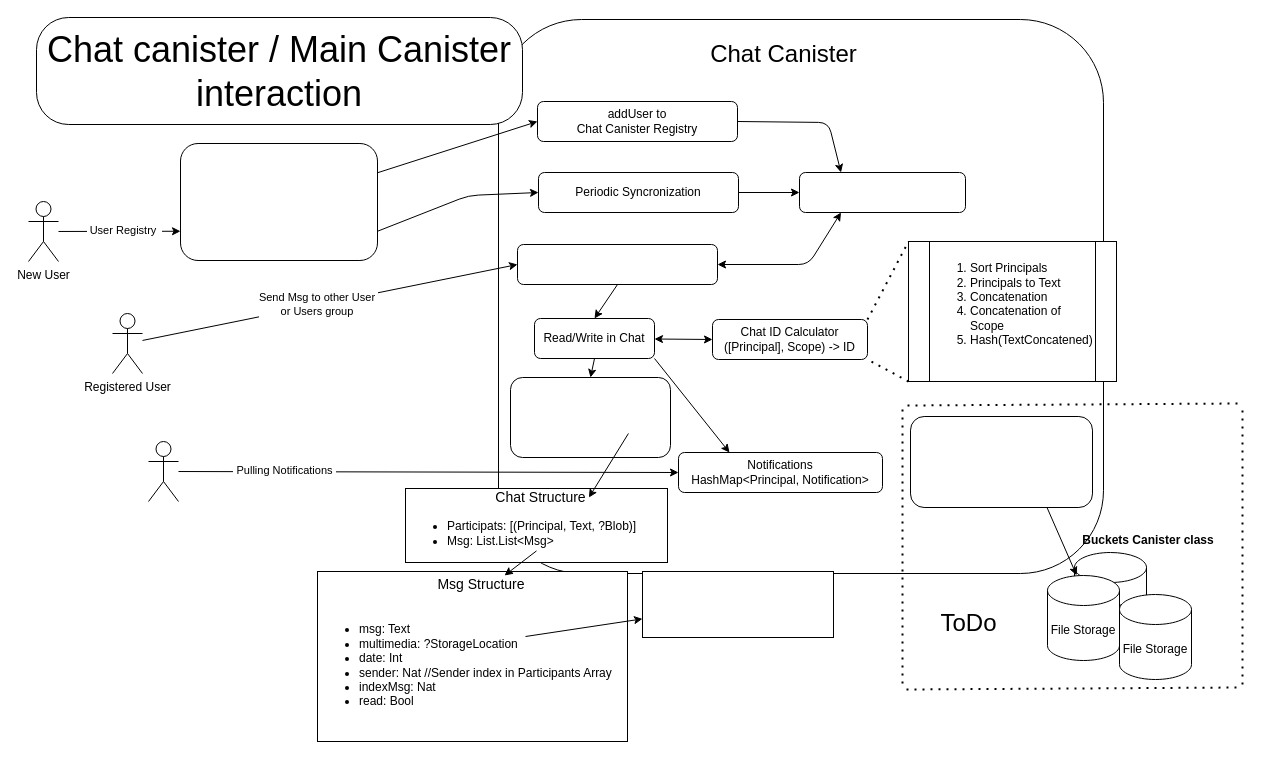
The diagram is 1262 pixels wide and 759 high, and some of its shapes have lost their labels. Here are the shapes that lost their labels. From the top down, the centre of each, then its label:
At (x=279, y=201): "Main Canister".
At (x=882, y=192): "User Storage HashMap<Principal, Name>".
At (x=617, y=264): "Managing Chat Access Permissions".
At (x=590, y=417): "Chat Storage HashMap<ChatId, Chat>".
At (x=163, y=471): "User Loged".
At (x=1001, y=462): "Buket Factory Module Automatic bucket canister class deployment and manage.".
At (x=738, y=604): "StorageLocation structure { bucket: Principal; index: Nat }".
